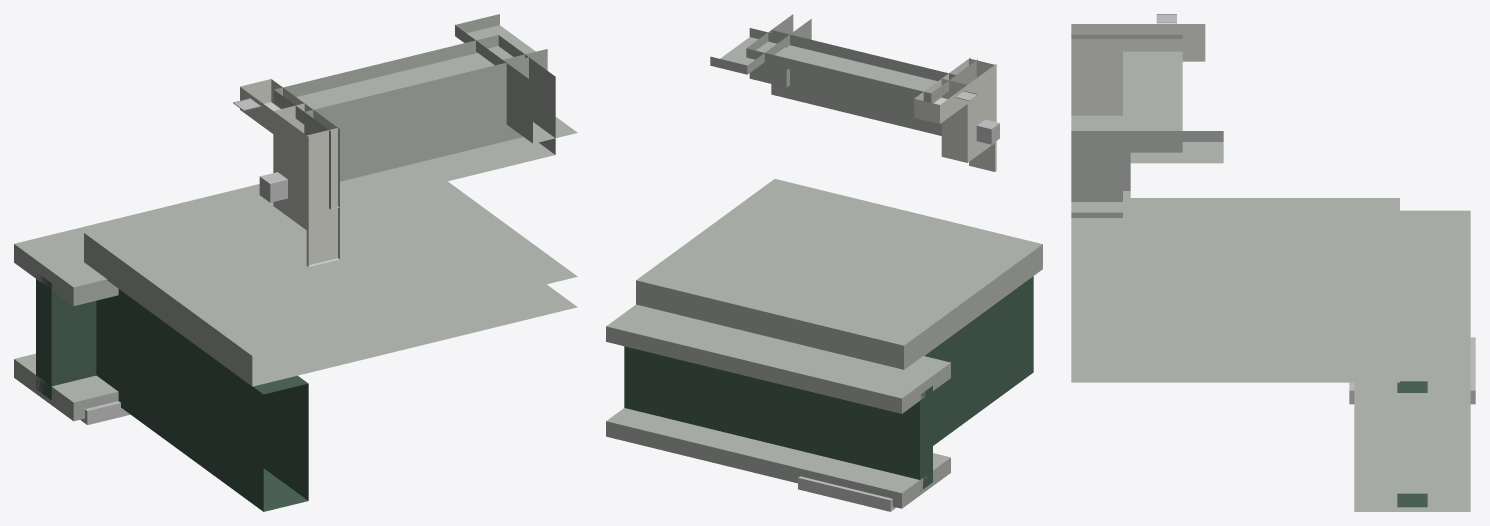
The model's file is cell_0.obj.
3 views of the same model, side by side, from view 1: azimuth 30°, elevation 25°; view 2: azimuth 150°, elevation 25°; view 3: azimuth 270°, elevation 25° (orthographic). The views are drawn at different scales.
Size of the model in its own units: 1 by 0.9937 by 1.
